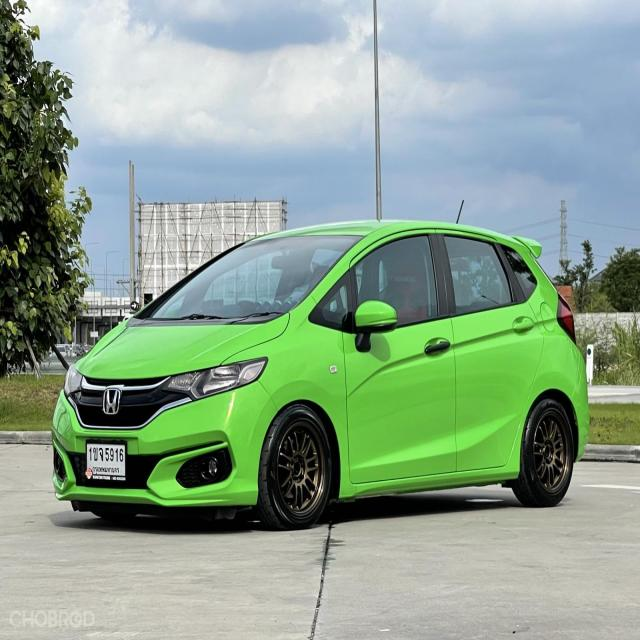license_plate: (84, 438, 130, 488)
